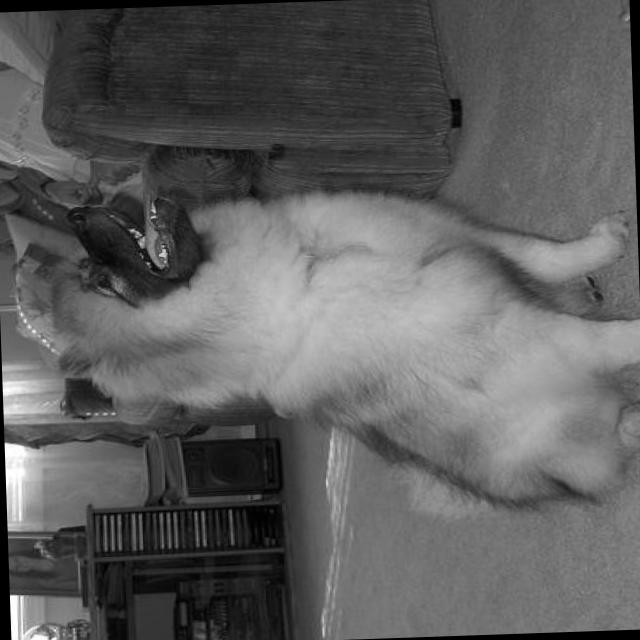sitting: (36, 164, 640, 536)
